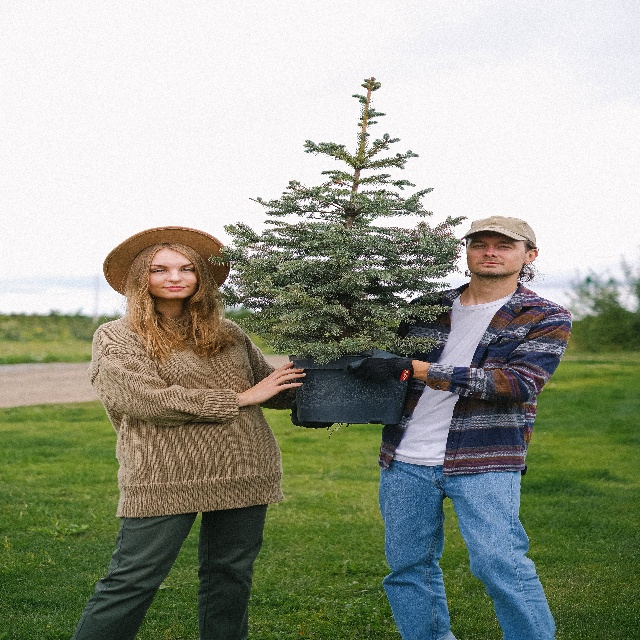Sin_guantes: (243, 360, 307, 407)
